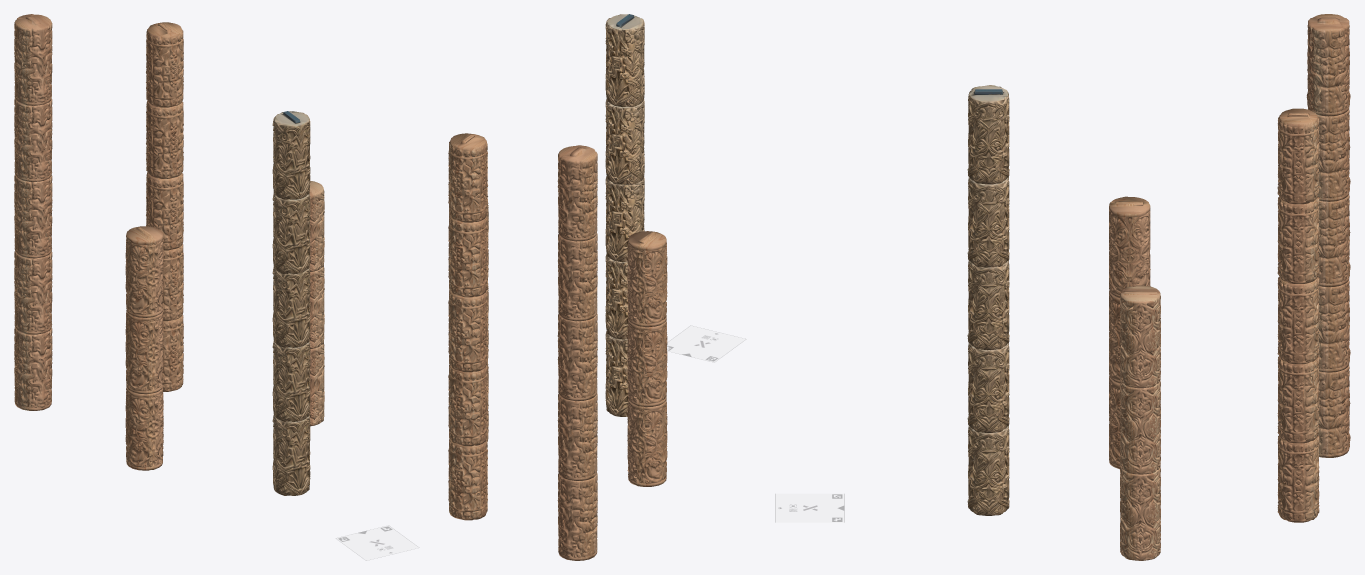
The model's file is project15.glb.
The picture shows the model from 3 angles, left to right: view 1: azimuth 30°, elevation 25°; view 2: azimuth 150°, elevation 25°; view 3: azimuth 270°, elevation 25°; orthographic projection. The views are drawn at different scales.
Visible parts, largest first — view 1: 15Jakab Sára.001, TRACK; view 2: 15Jakab Sára.001, TRACK; view 3: 15Jakab Sára.001, TRACK.
Boxes of the visible parts, left/top/right/bottom form: 15Jakab Sára.001: left=14, top=14, right=324, bottom=495; TRACK: left=336, top=525, right=418, bottom=560; 15Jakab Sára.001: left=448, top=14, right=667, bottom=560; TRACK: left=667, top=326, right=745, bottom=362; 15Jakab Sára.001: left=967, top=14, right=1350, bottom=560; TRACK: left=775, top=494, right=844, bottom=522.
Size of the model in its own units: 2.06 by 3.43 by 4.15.
Materials: 3 (3 with a texture image).
